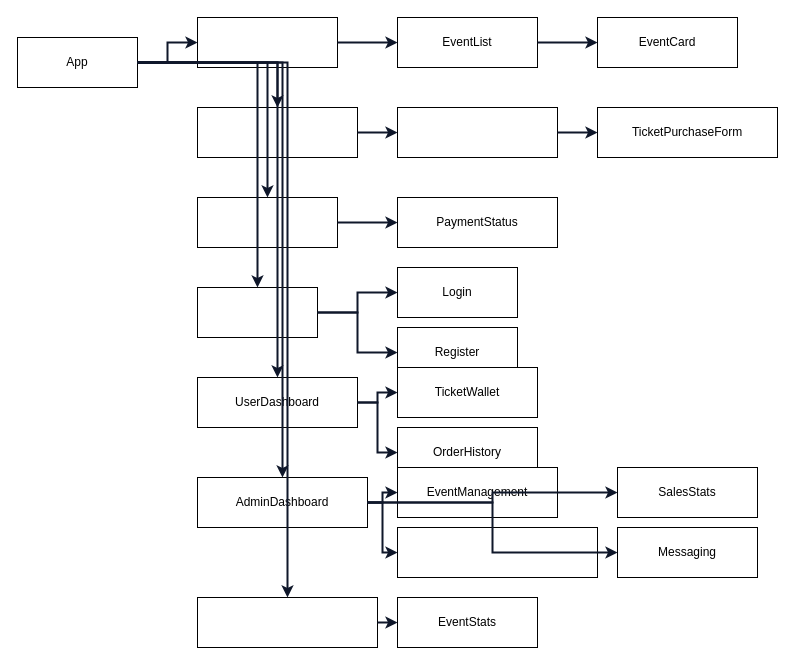
Some shapes in this 795 by 665 pixel diagram are drawn without their labels. The box of each missing label's shape, as (x1, y1, x2, y2) in pixels:
Auth: (196, 286, 318, 338)
Checkout: (196, 196, 338, 248)
EventDetailPage: (196, 106, 358, 158)
HomePage: (196, 16, 338, 68)
PromoterDashboard: (196, 596, 378, 648)
TicketCategoryManagement: (396, 526, 598, 578)
TicketSelector: (396, 106, 558, 158)
